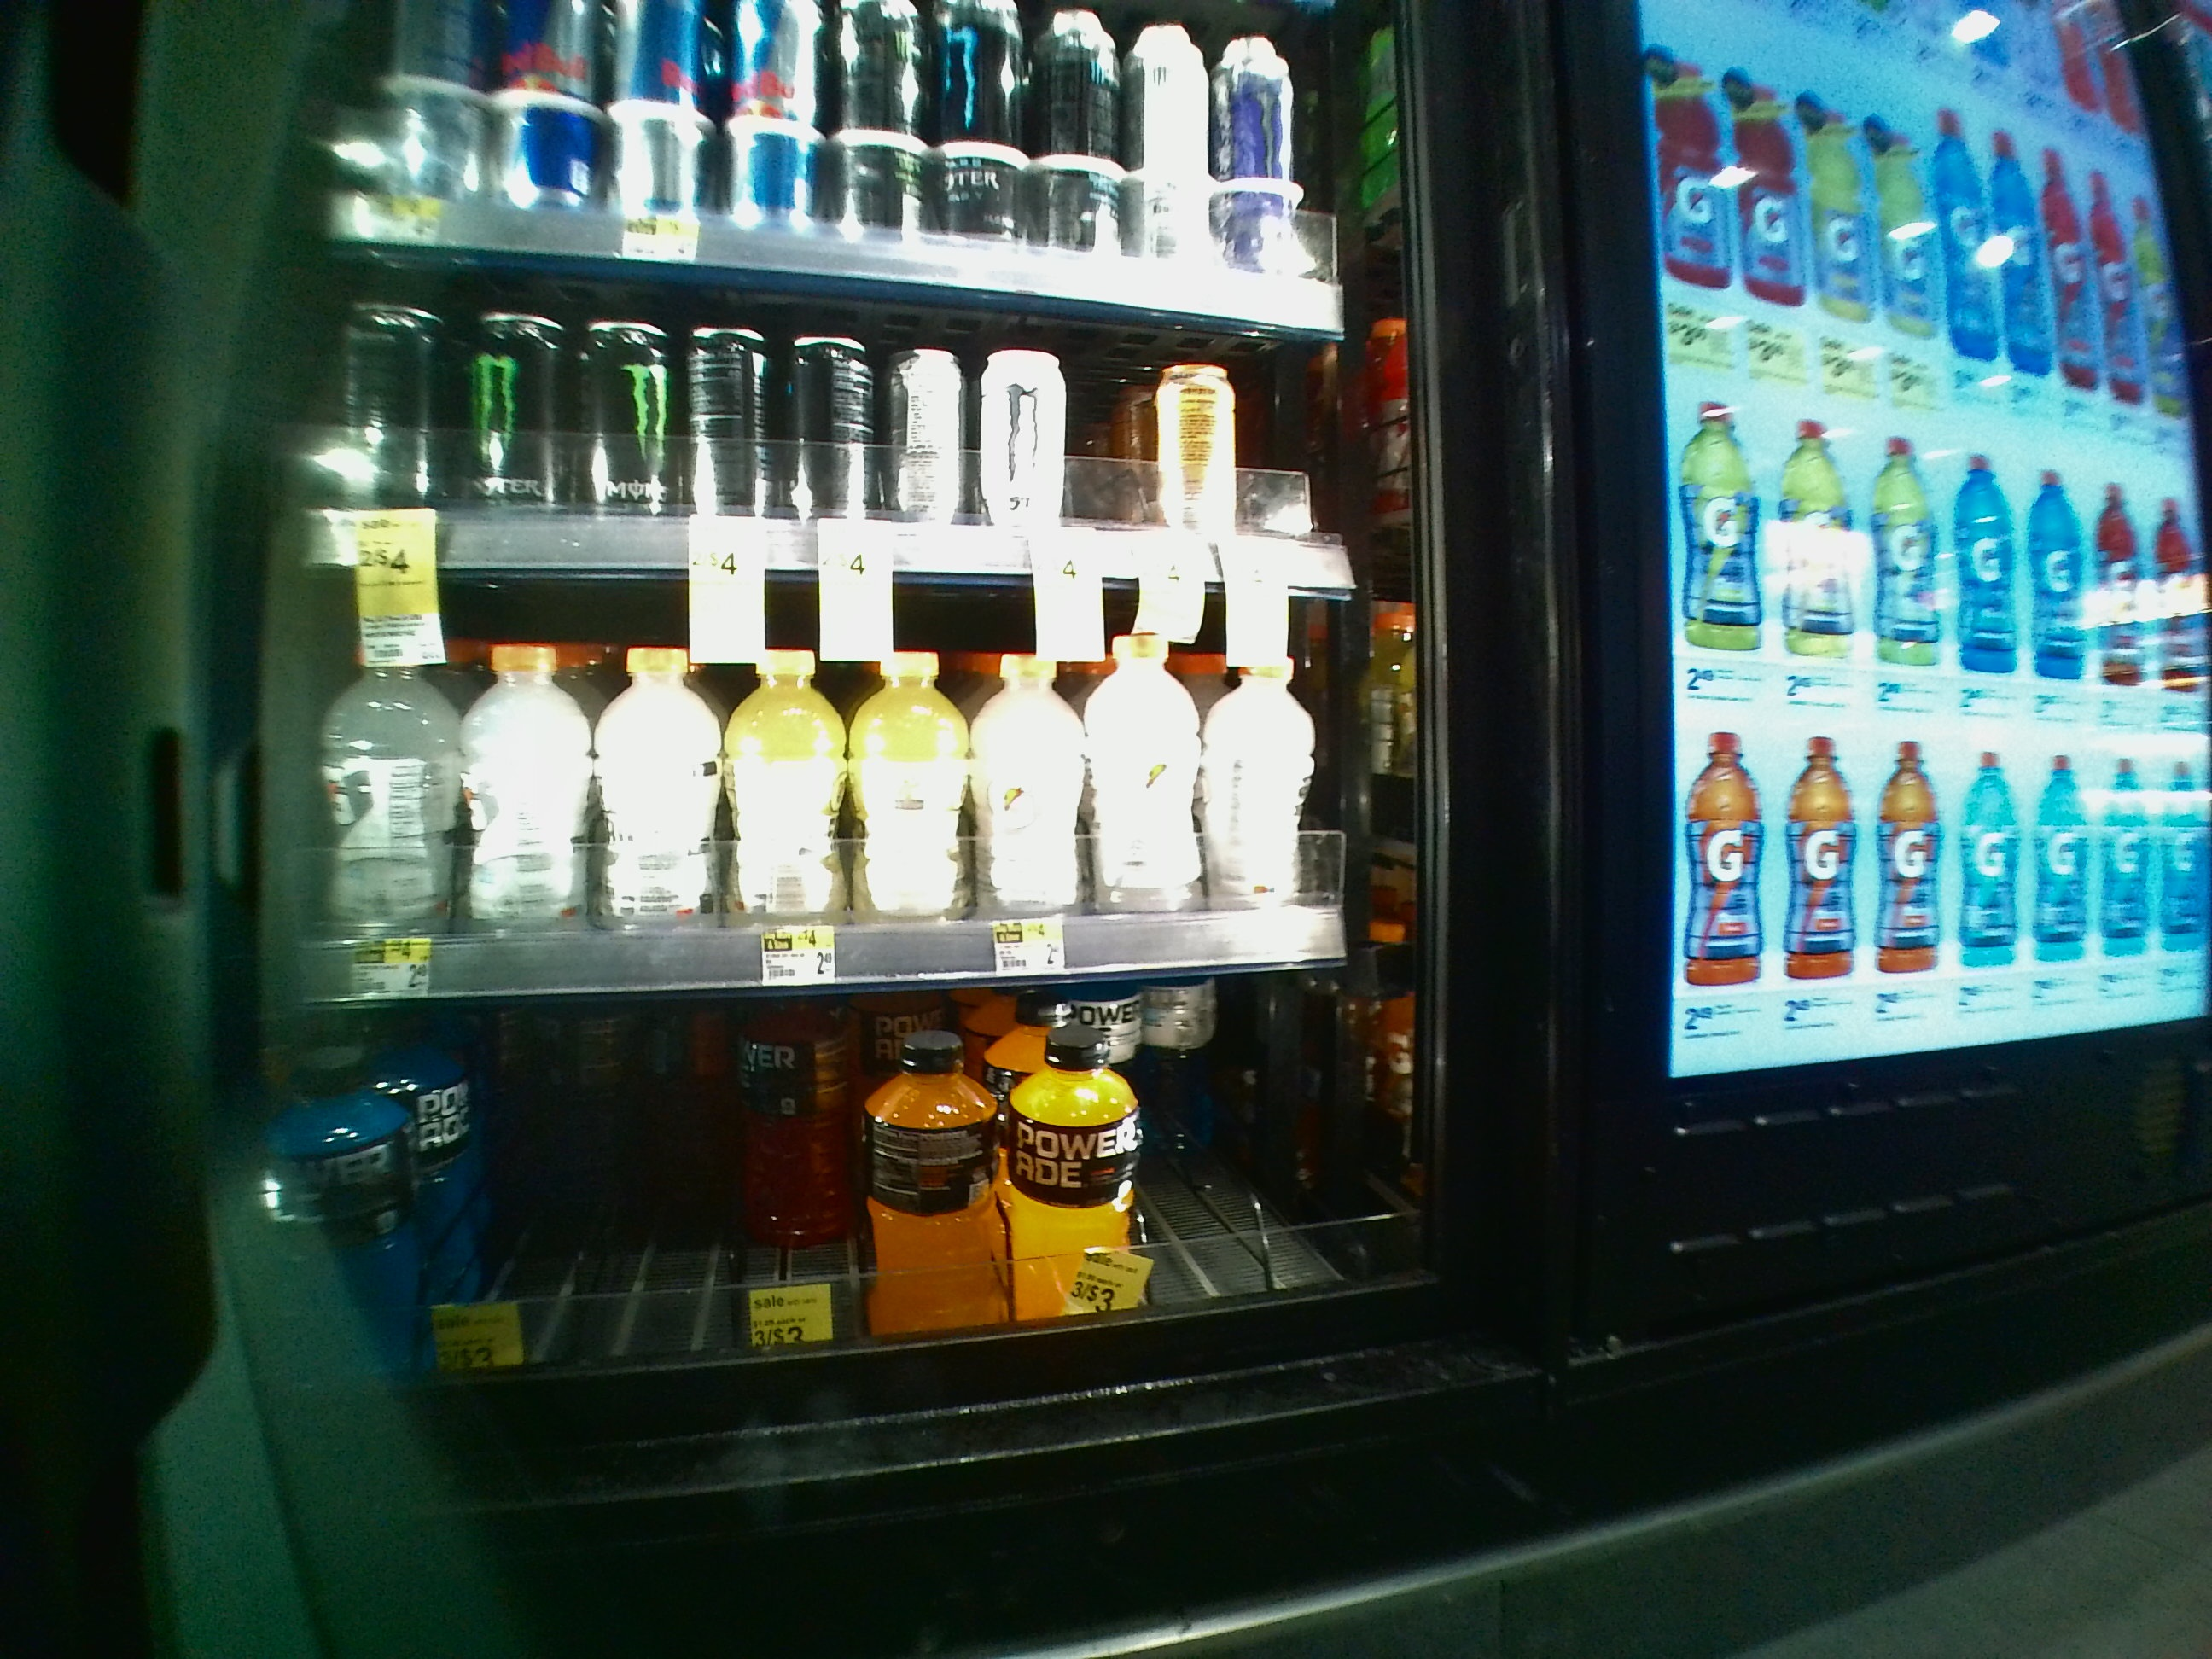shelf: (284, 565, 1454, 983)
